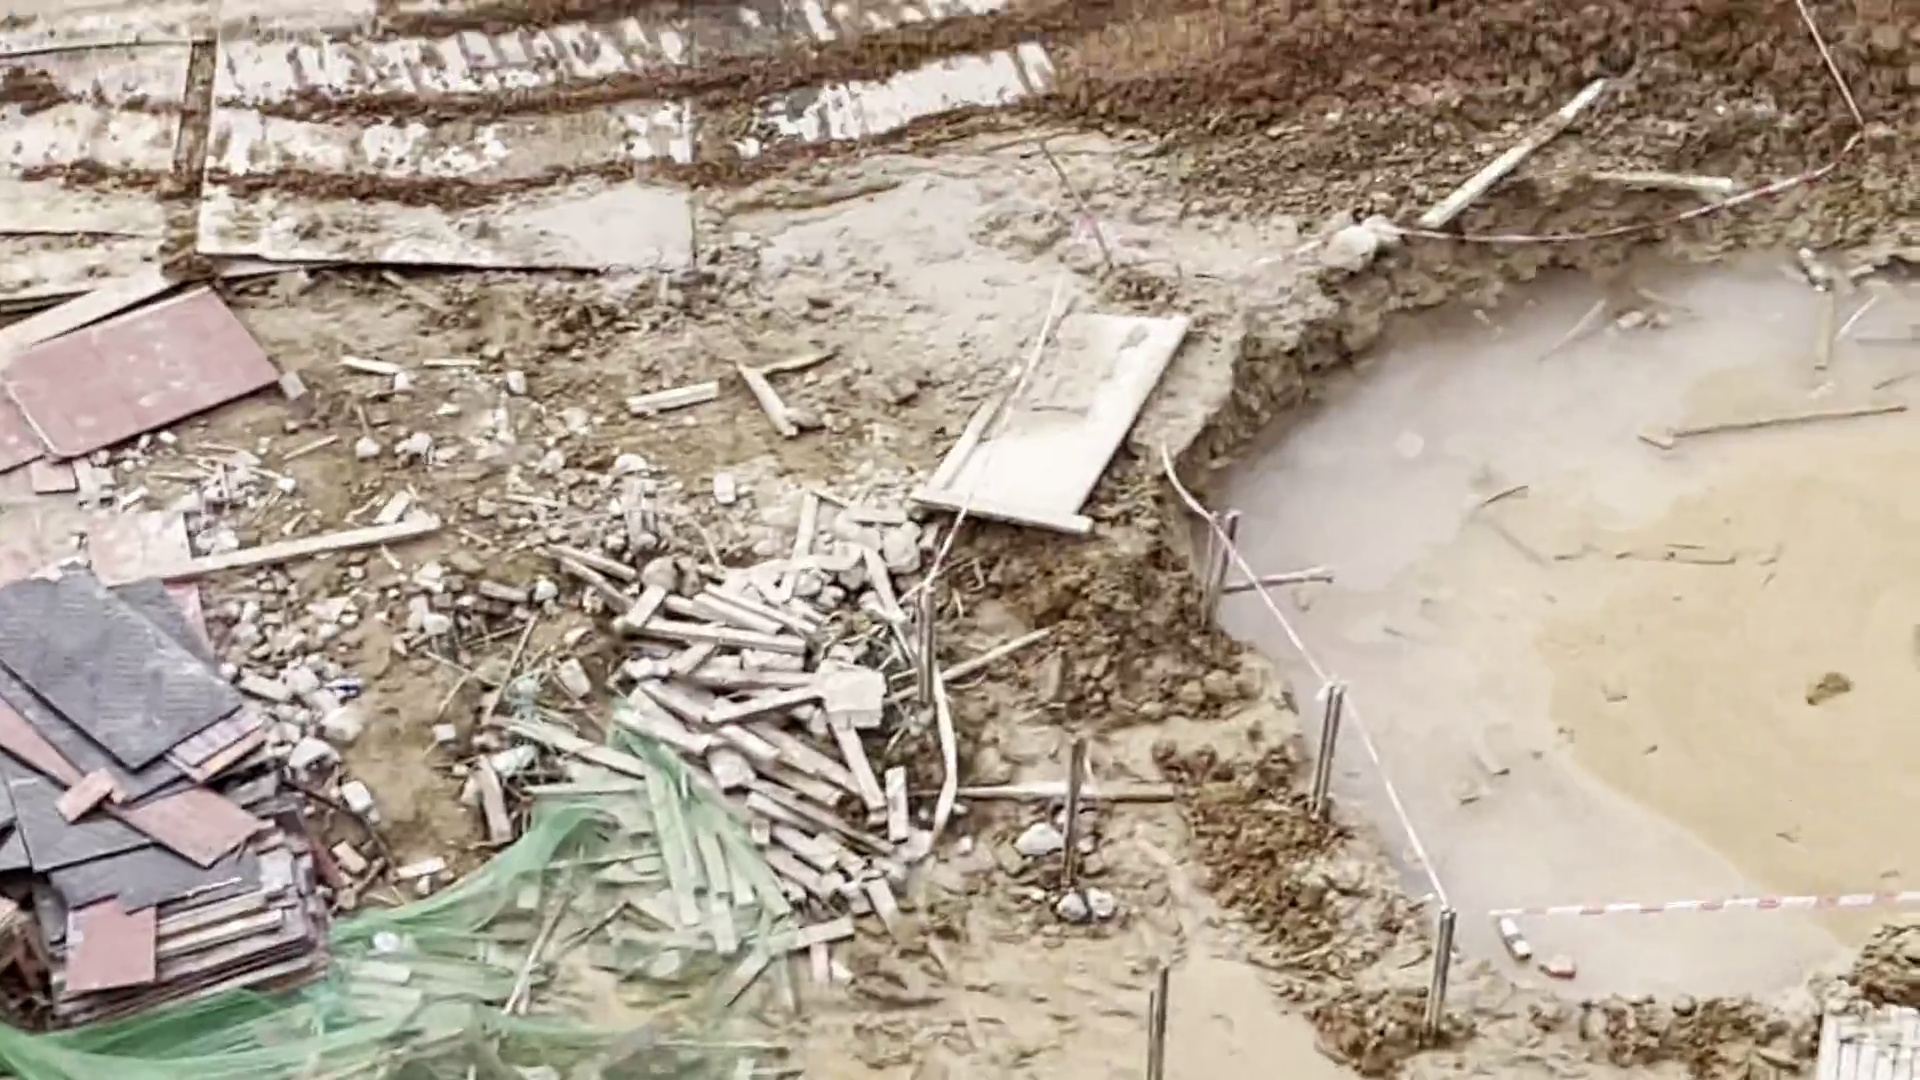board: (5, 568, 352, 1006)
